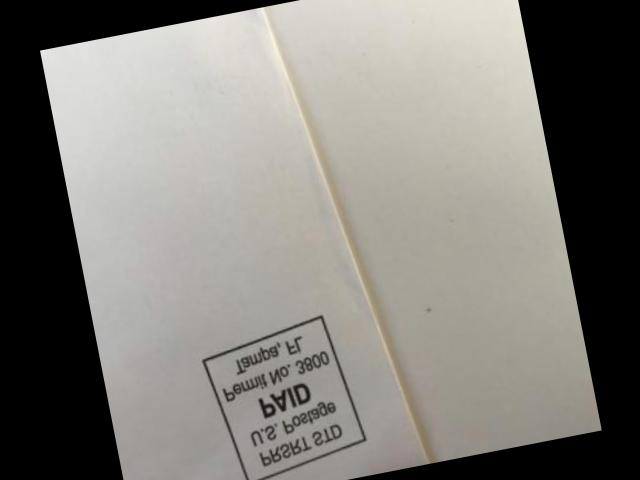cardboard paper: (39, 7, 424, 480)
